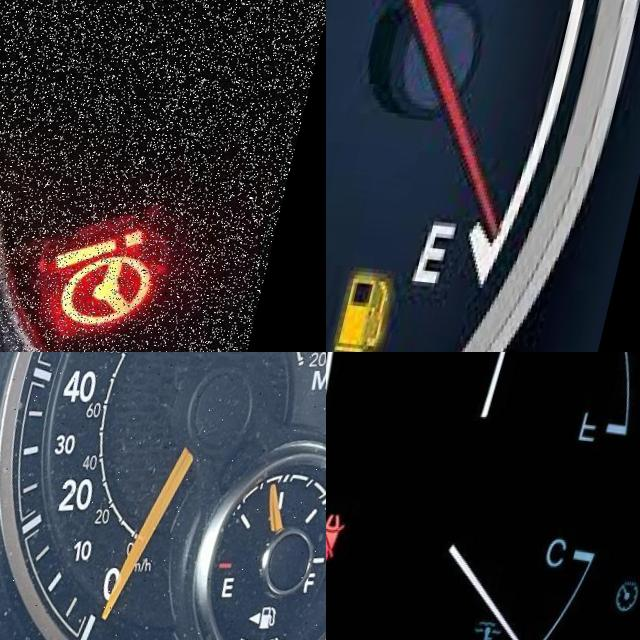Electronic Power Steering: (28, 189, 215, 352)
Seat Belt: (330, 504, 366, 553)
